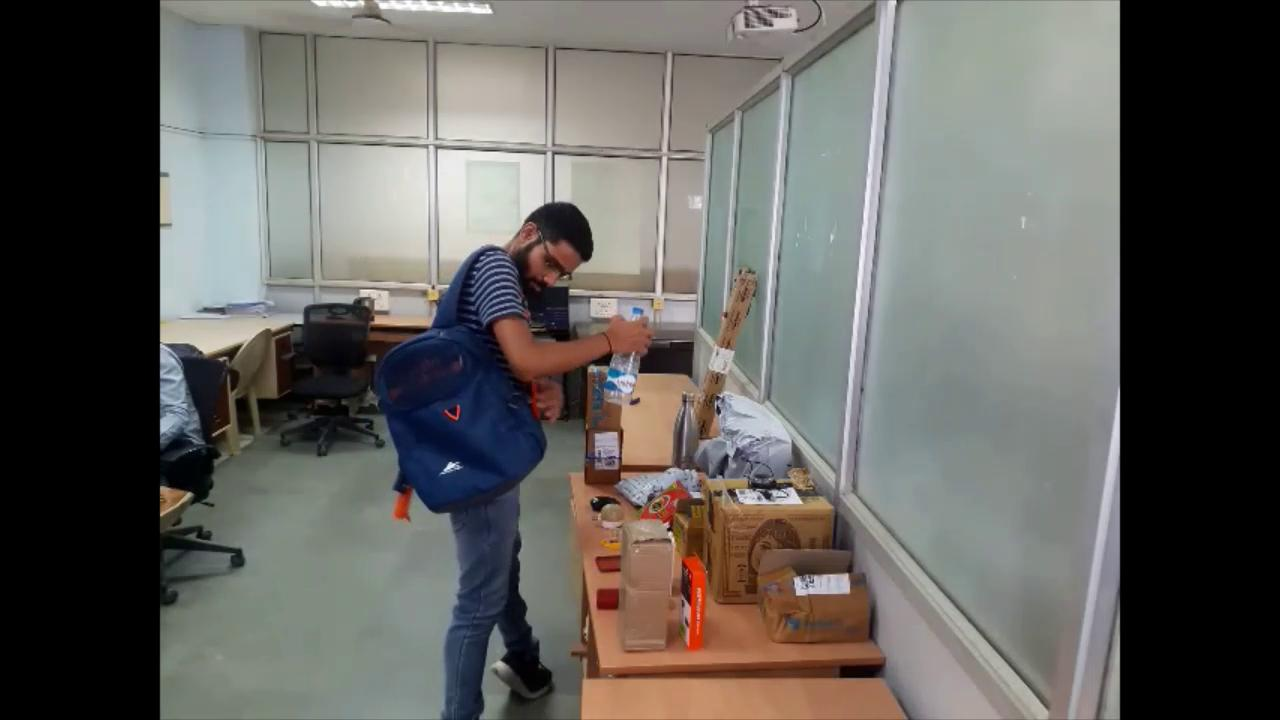Normal: (360, 168, 662, 720)
